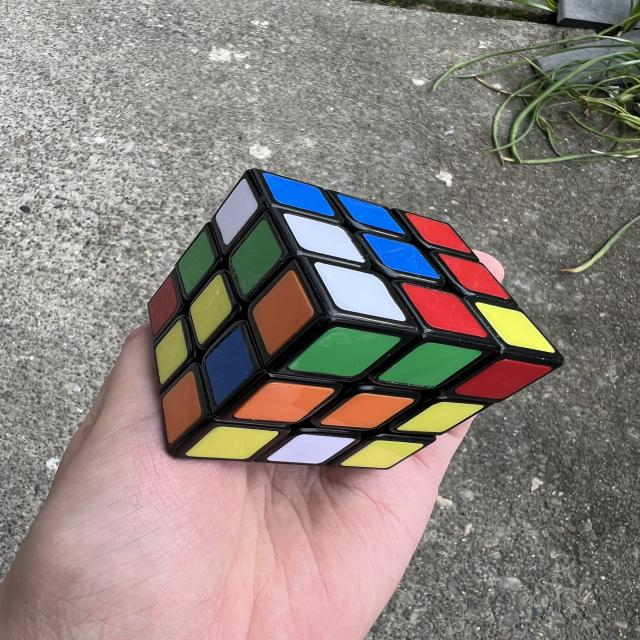blue: (187, 325, 269, 407), (256, 171, 340, 219), (332, 193, 410, 236)
center: (176, 273, 245, 345), (357, 233, 445, 281), (320, 391, 413, 430)
green: (376, 319, 482, 411), (288, 321, 401, 383), (217, 216, 294, 297), (166, 230, 224, 294)
orange: (236, 268, 326, 356), (233, 379, 334, 426), (159, 371, 205, 444)
red: (452, 340, 552, 419), (394, 282, 494, 340), (432, 252, 516, 302), (135, 274, 192, 337), (399, 211, 476, 255)
white: (306, 261, 413, 323), (277, 213, 371, 264), (204, 177, 267, 246), (267, 431, 355, 467)
yellow: (472, 284, 556, 372), (395, 384, 486, 450), (186, 424, 278, 462), (341, 436, 423, 473), (148, 317, 193, 384)
